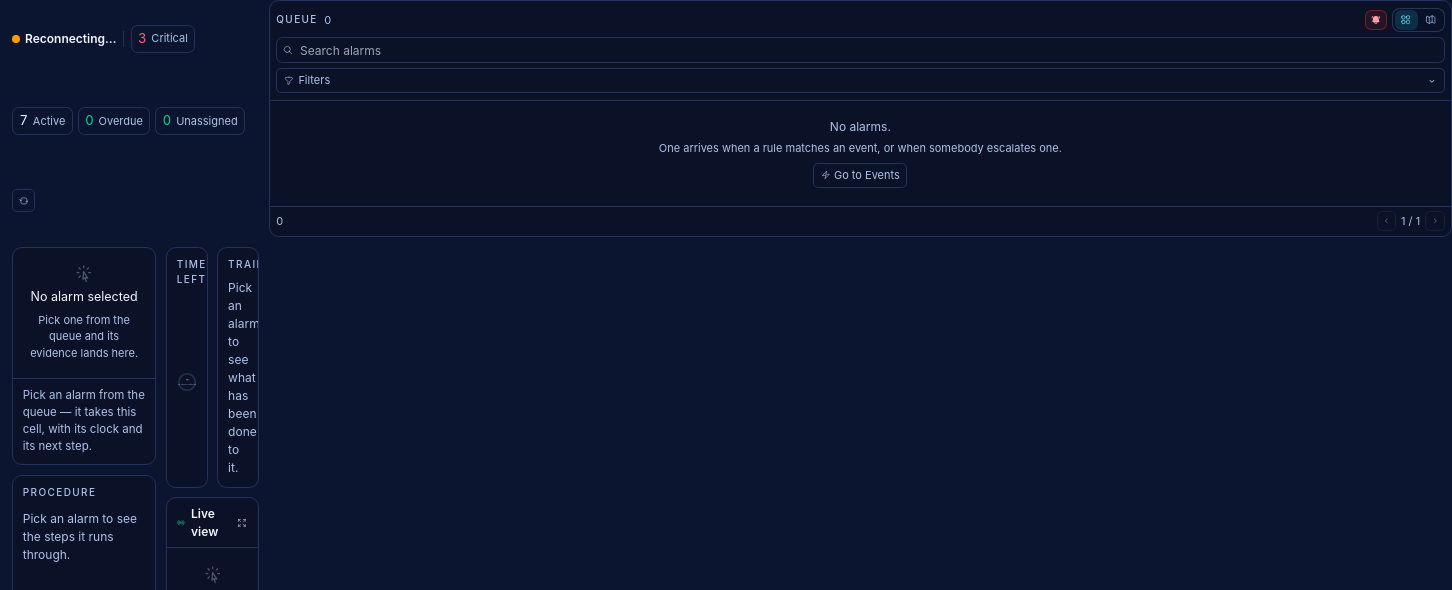
Scenario: an empty queue › offers the filters back when they are what emptied it
Click the button "Filters": (314, 80) [276,68,1445,93]
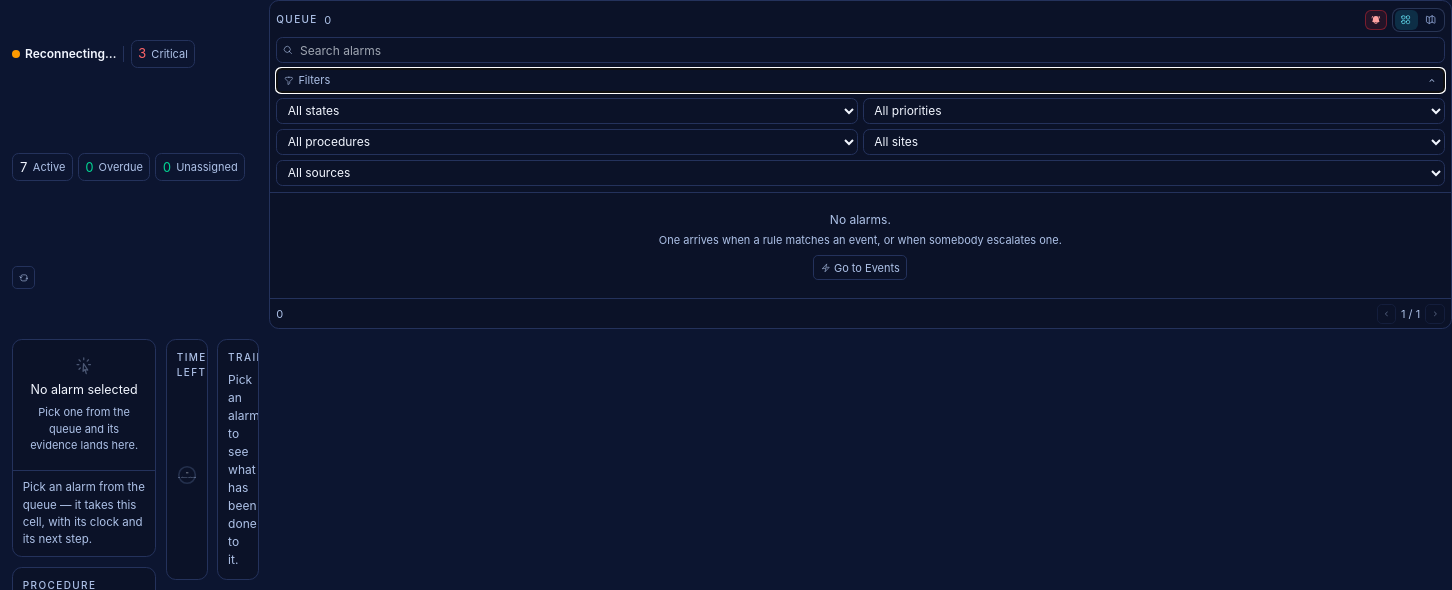
Select "Critical" in the dropdown named "filter by priority": (1154, 111) [863,98,1444,124]
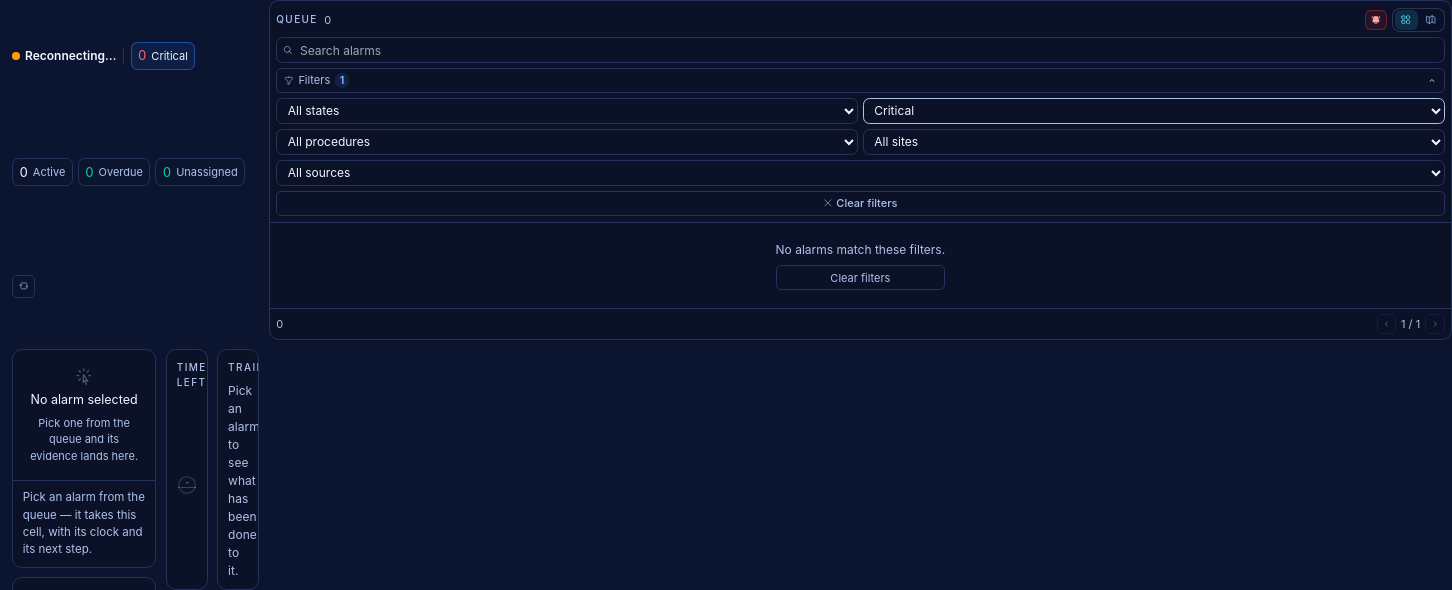
Expected: the text "No alarms match these filters. Clear filters" is shown, [776,241,945,290]
